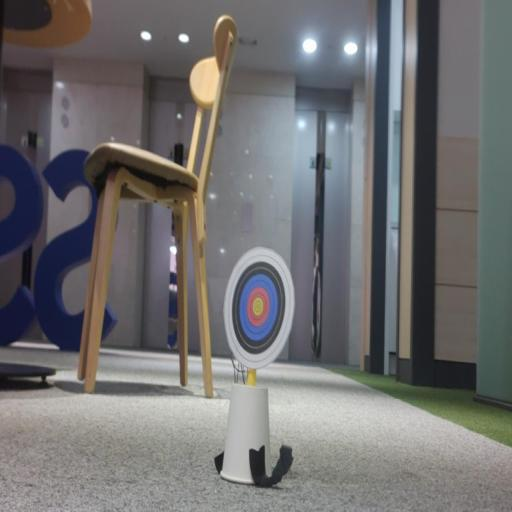target: (224, 247, 294, 368)
